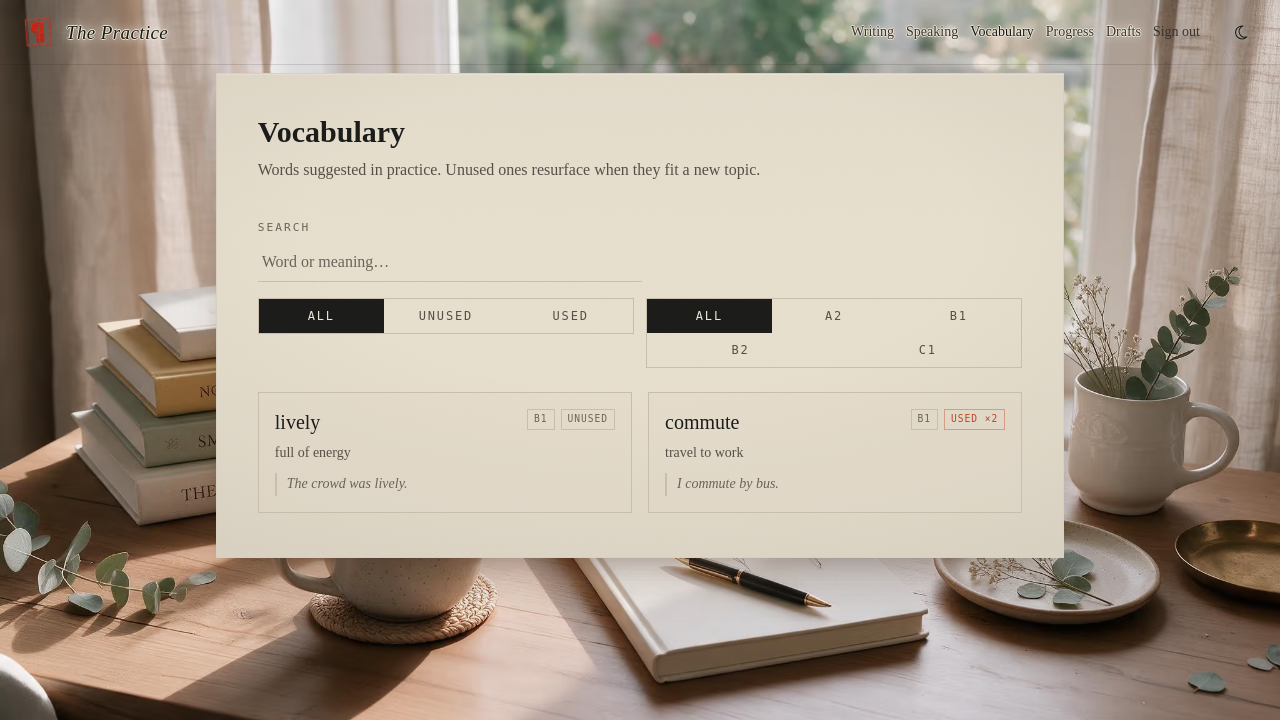
Test case: VocabPage › lists words with usage badges and filters by status
This screenshot has width=1280, height=720.
Check: the heading "lively" is shown, box [275,409,320,437]
Check: the heading "commute" is shown, box [665,409,739,437]
Click the button "Unused" at (446, 316), box [384,299,508,333]
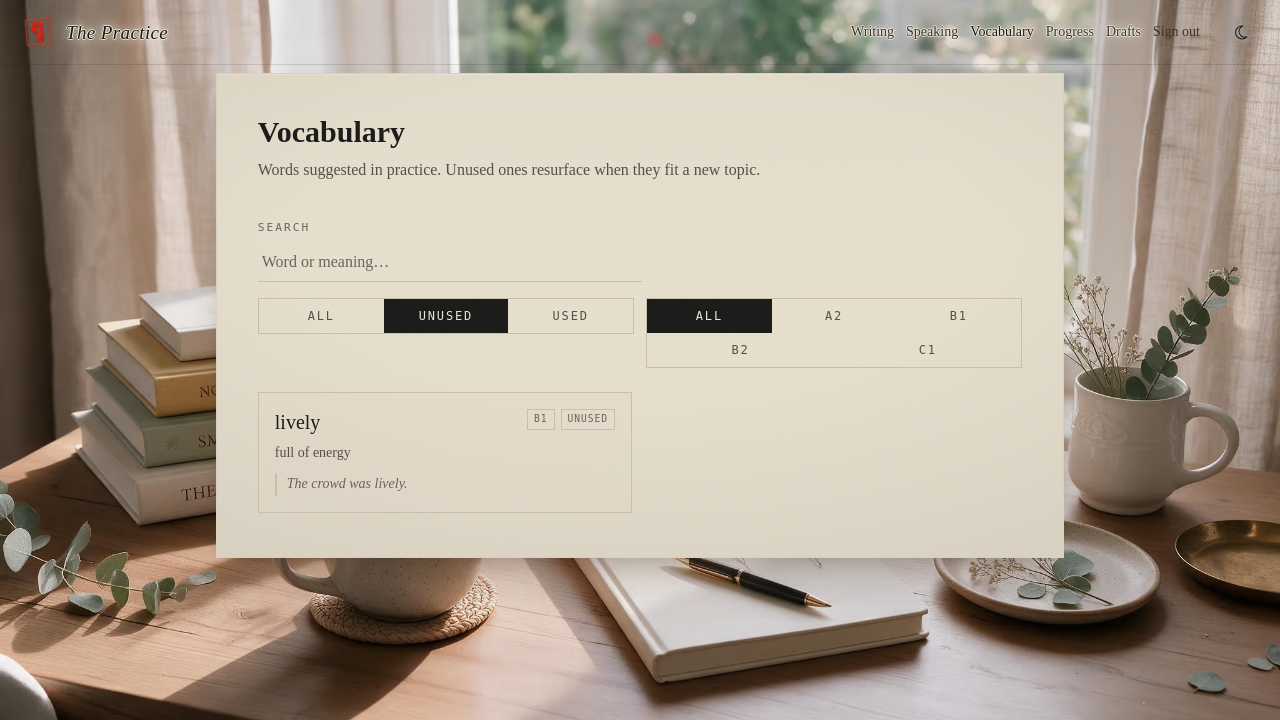
Check: the heading "lively" is shown, box [275,409,320,437]
Check: the heading "commute" is gone
Click the button "Used" at (571, 316), box [508,299,633,333]
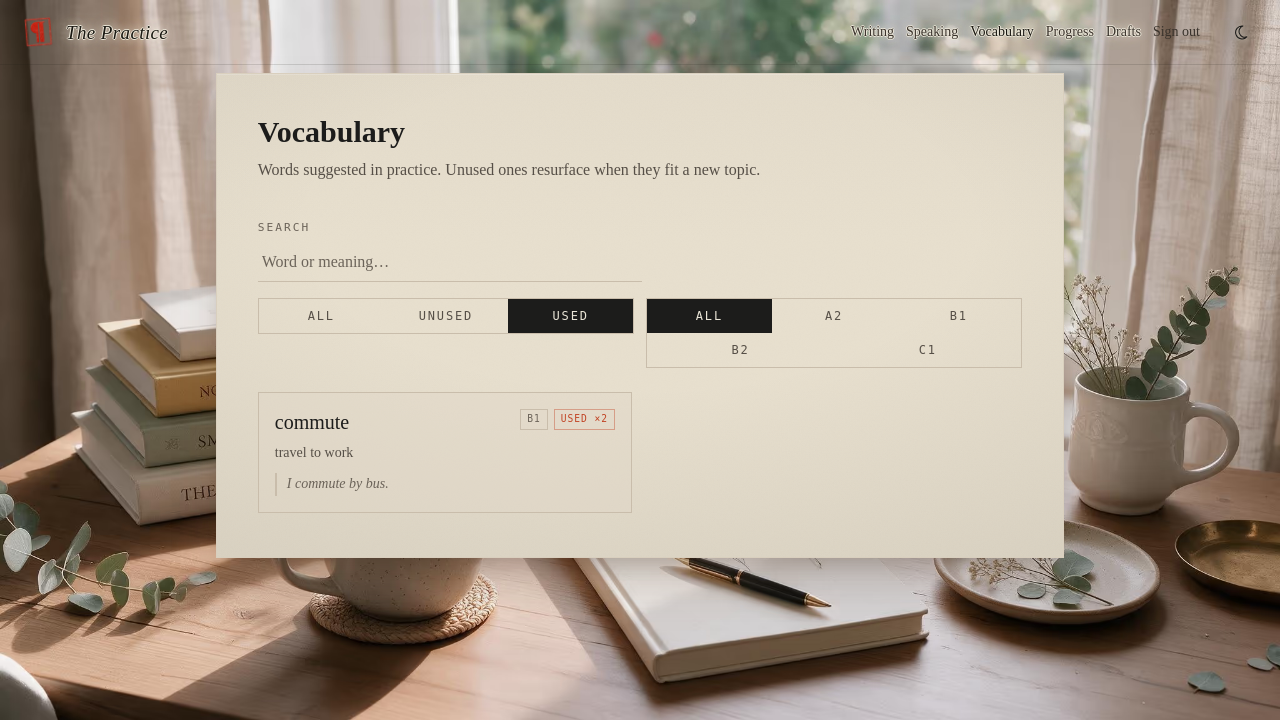
Check: the heading "commute" is shown, box [275,409,349,437]
Check: the heading "lively" is gone
